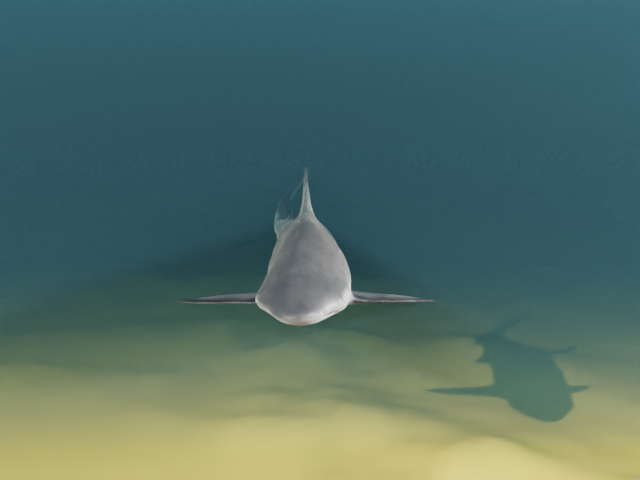Carribean Shark.001: (176, 160, 435, 325)
